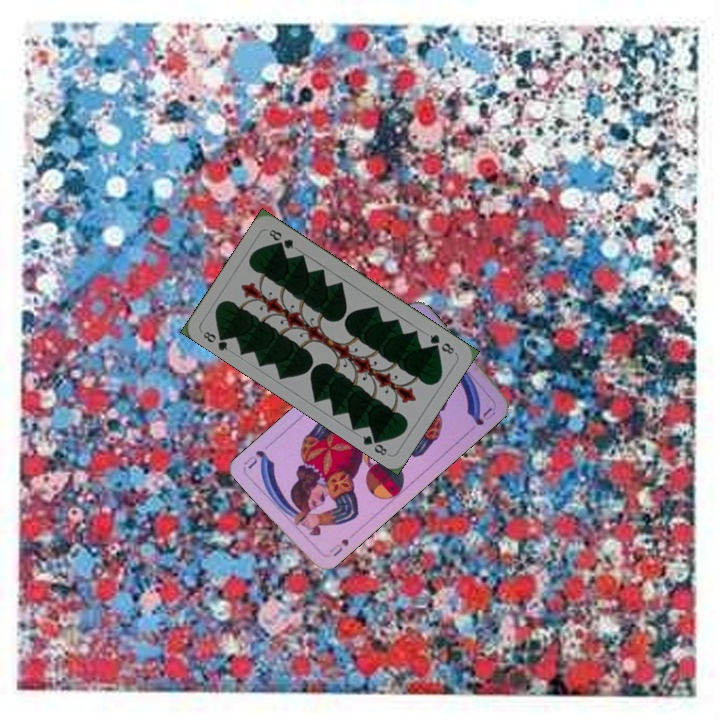G8: (426, 330, 458, 357), (199, 327, 231, 353)
SU: (325, 535, 351, 559)
